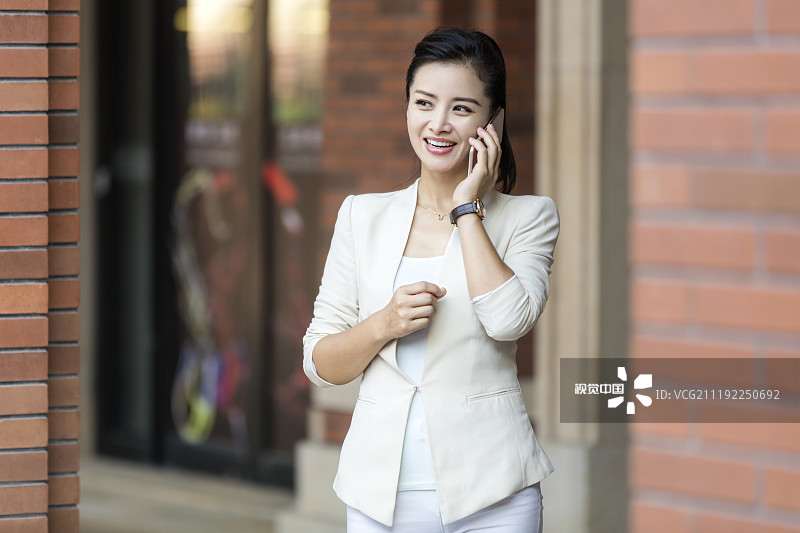calling: (448, 104, 511, 240)
no-phone: (352, 276, 458, 348)
